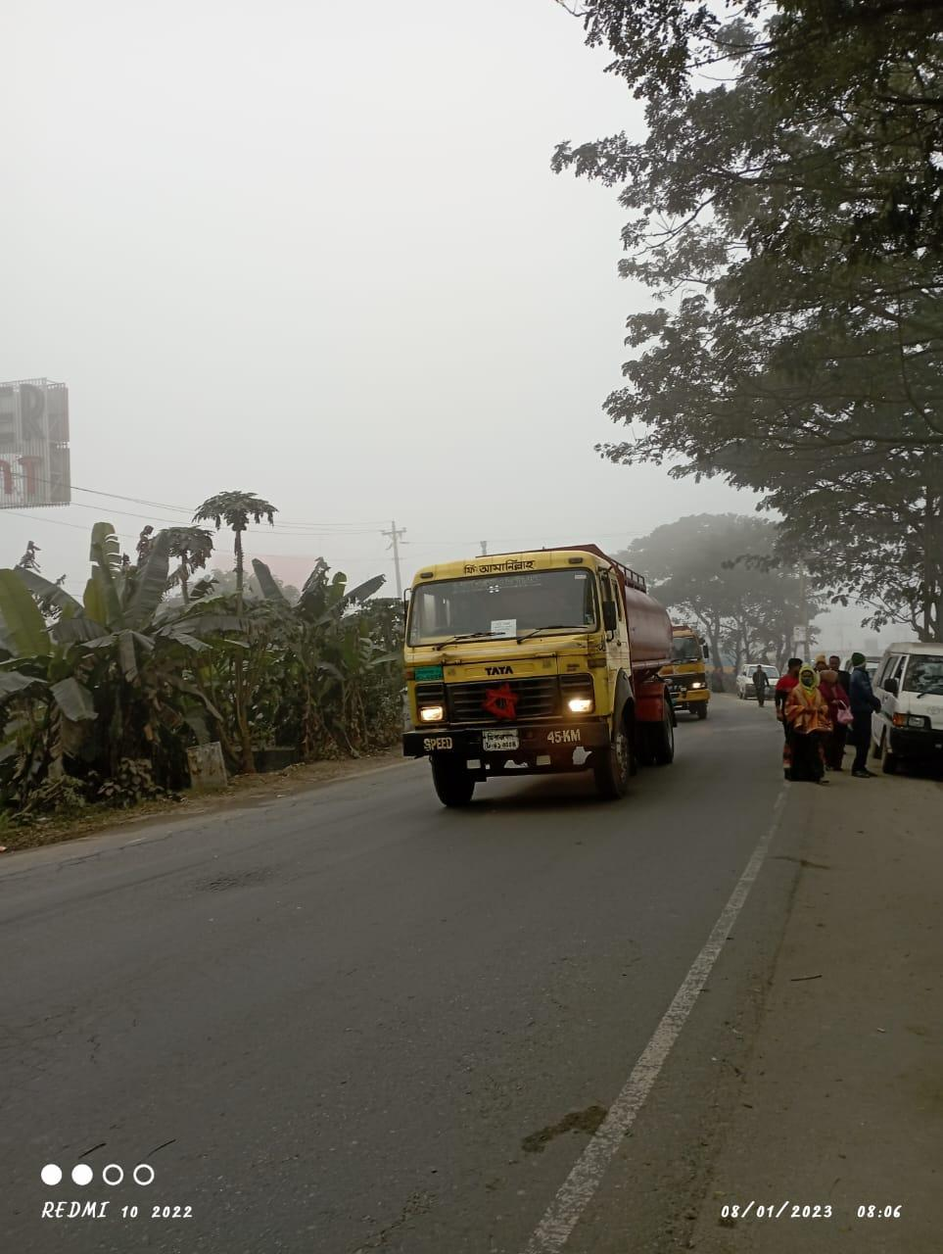Car: (877, 627, 943, 776), (734, 651, 787, 706)
Truck: (390, 537, 687, 807), (671, 606, 719, 730)
